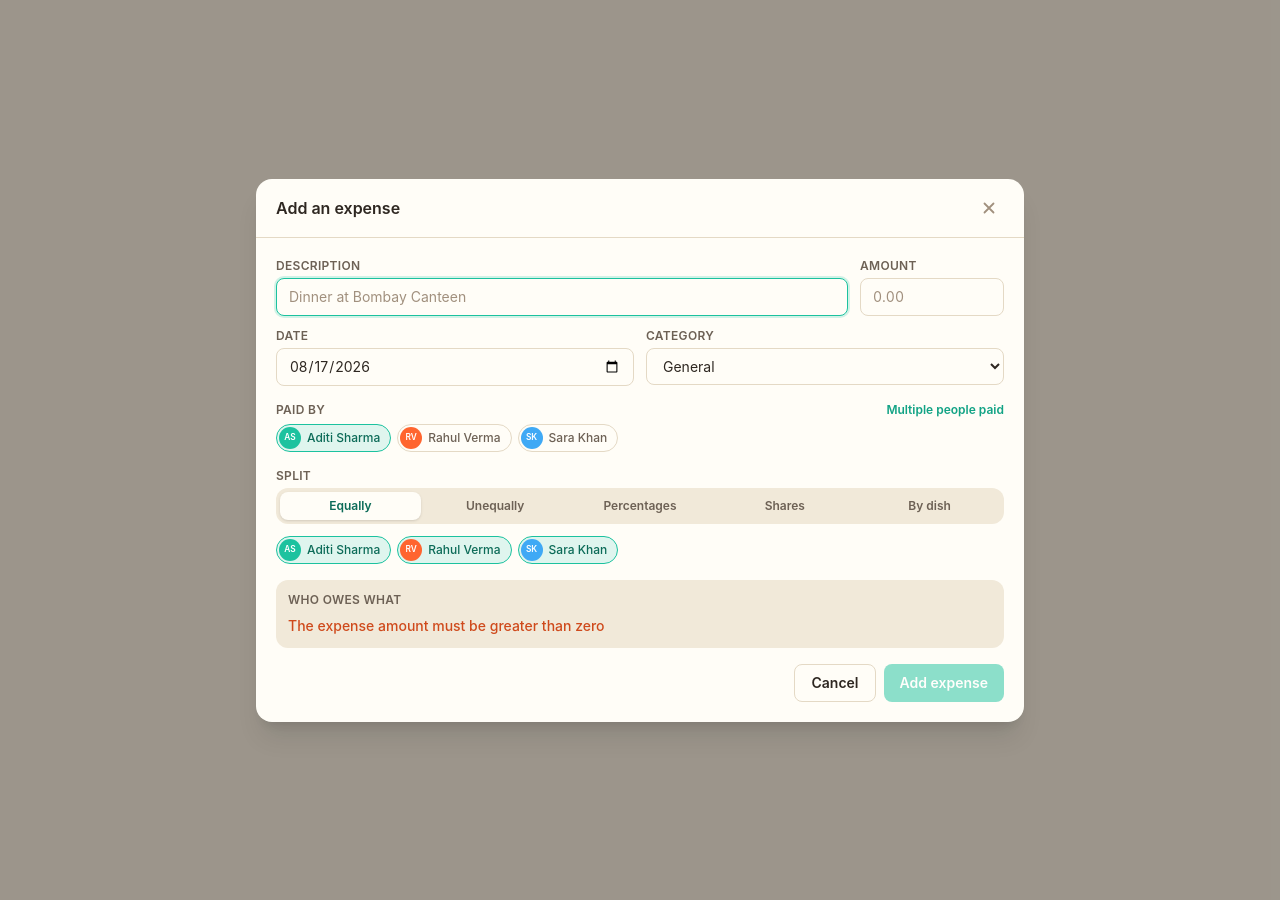
ExpenseModal › shows a specific error instead of letting a bad split through
This screenshot has width=1280, height=900.
In the field labelled "Description": [562, 296] box 276,278 -> 848,316, type "Rent"
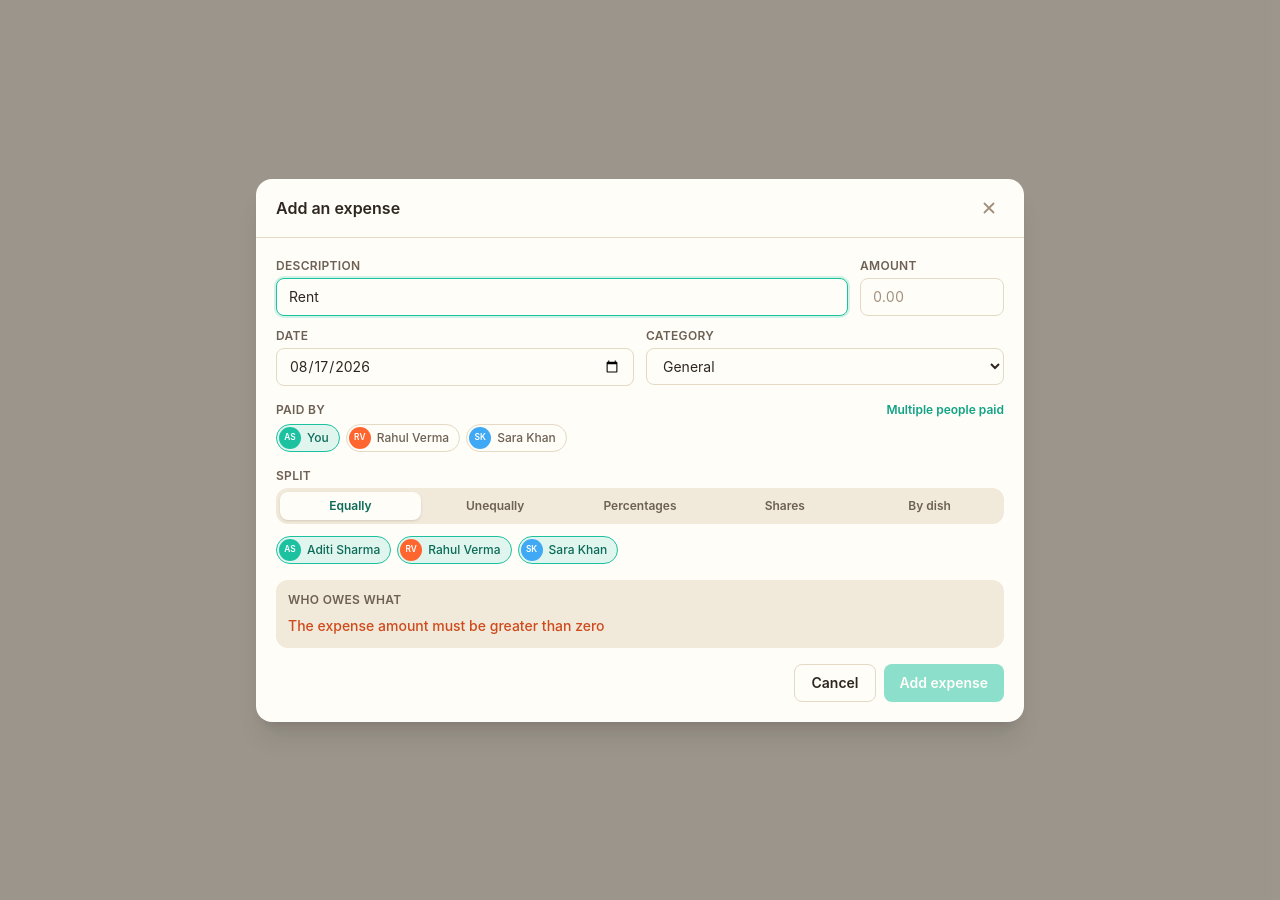
In the field labelled "Amount": [932, 296] box 860,278 -> 1004,316, type "100"
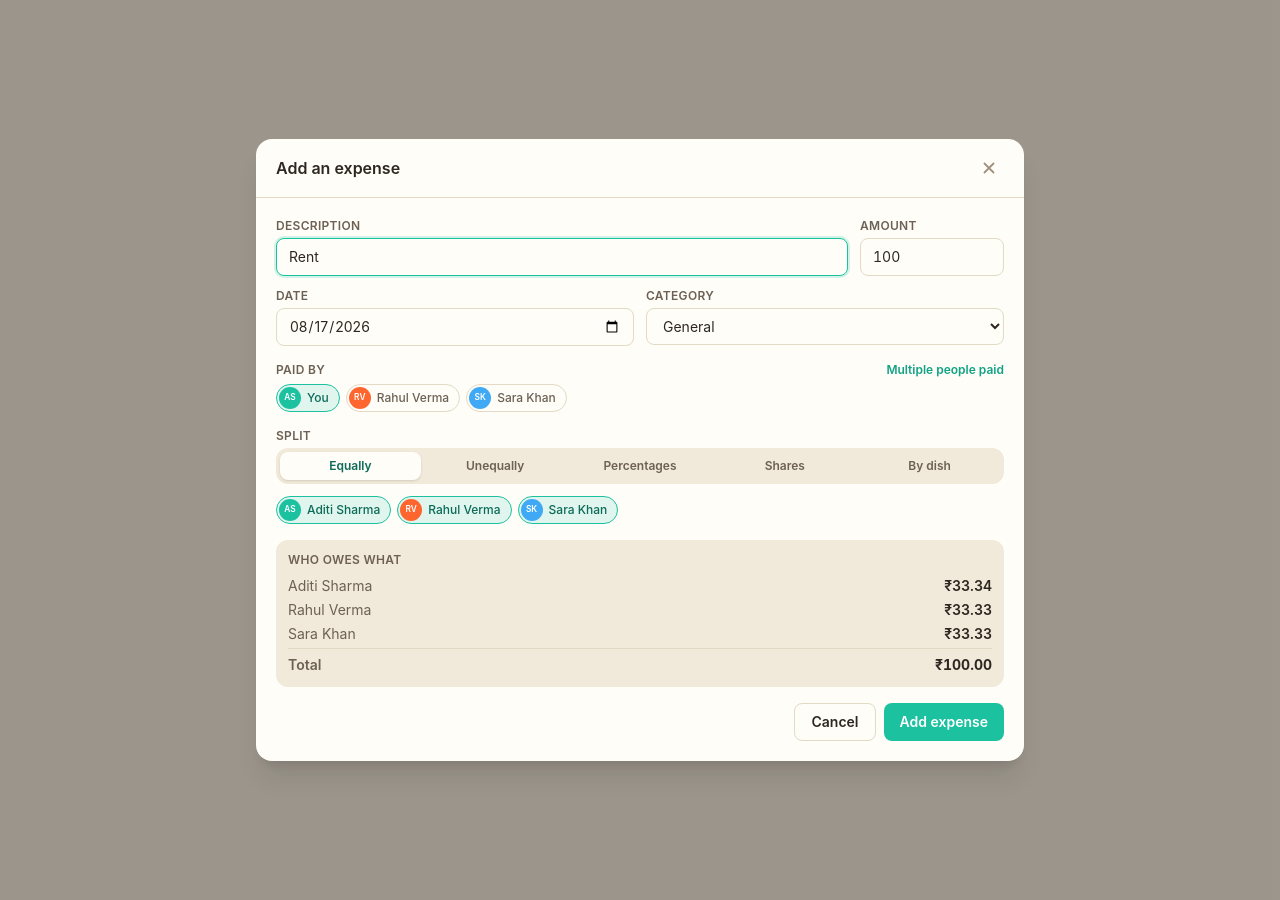
Click the button "Percentages": [640, 466] box 570,452 -> 710,480
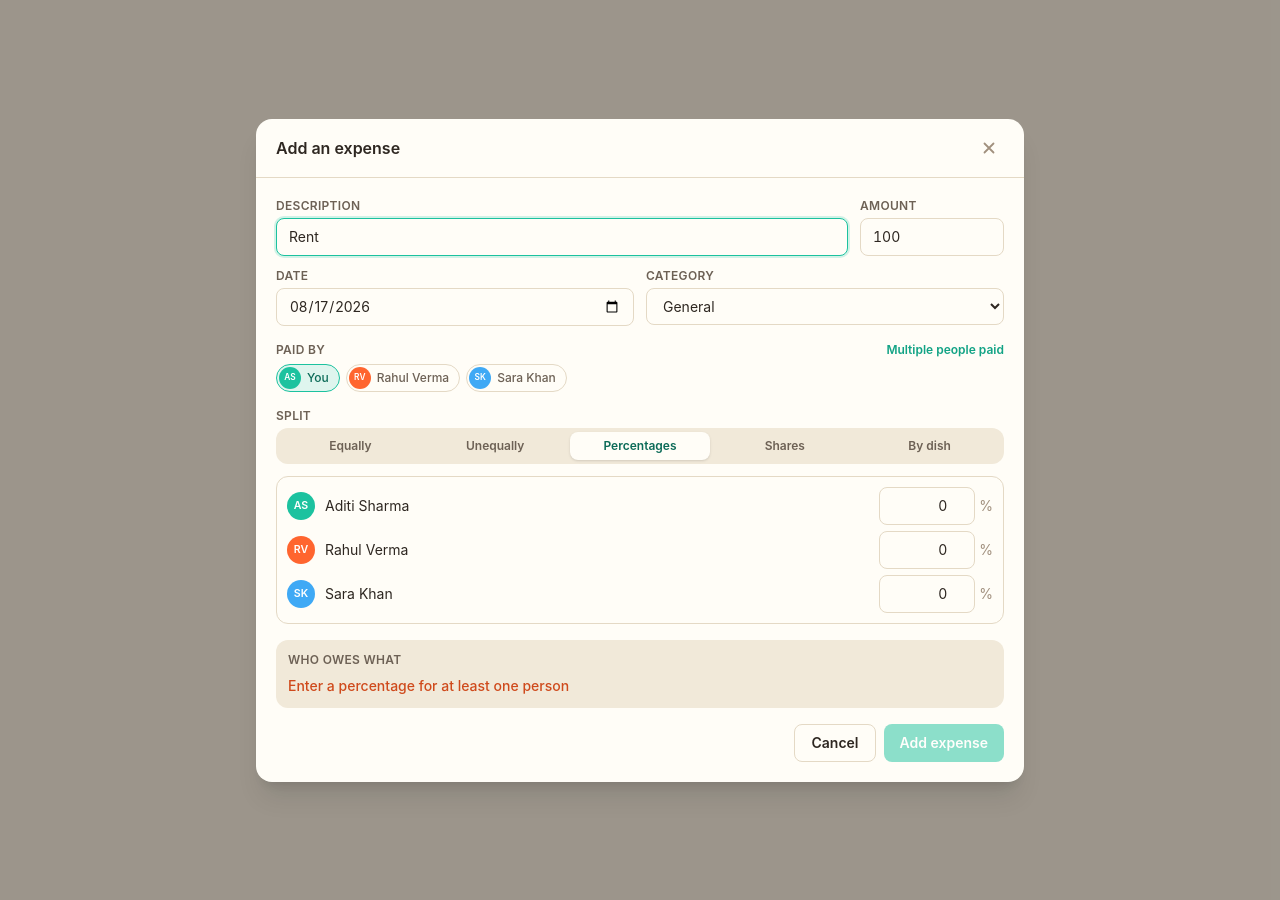
Expected: the text "Enter a percentage for at least one person" is shown, 288,676 -> 569,694
Expected: the button "Add expense" is disabled, 884,724 -> 1004,762
Now a partial split, which is arithmetically wrong — a different message.
Replace the text in the number field in the row of "Aditi Sharma" with "40": [927, 506] box 879,486 -> 975,524
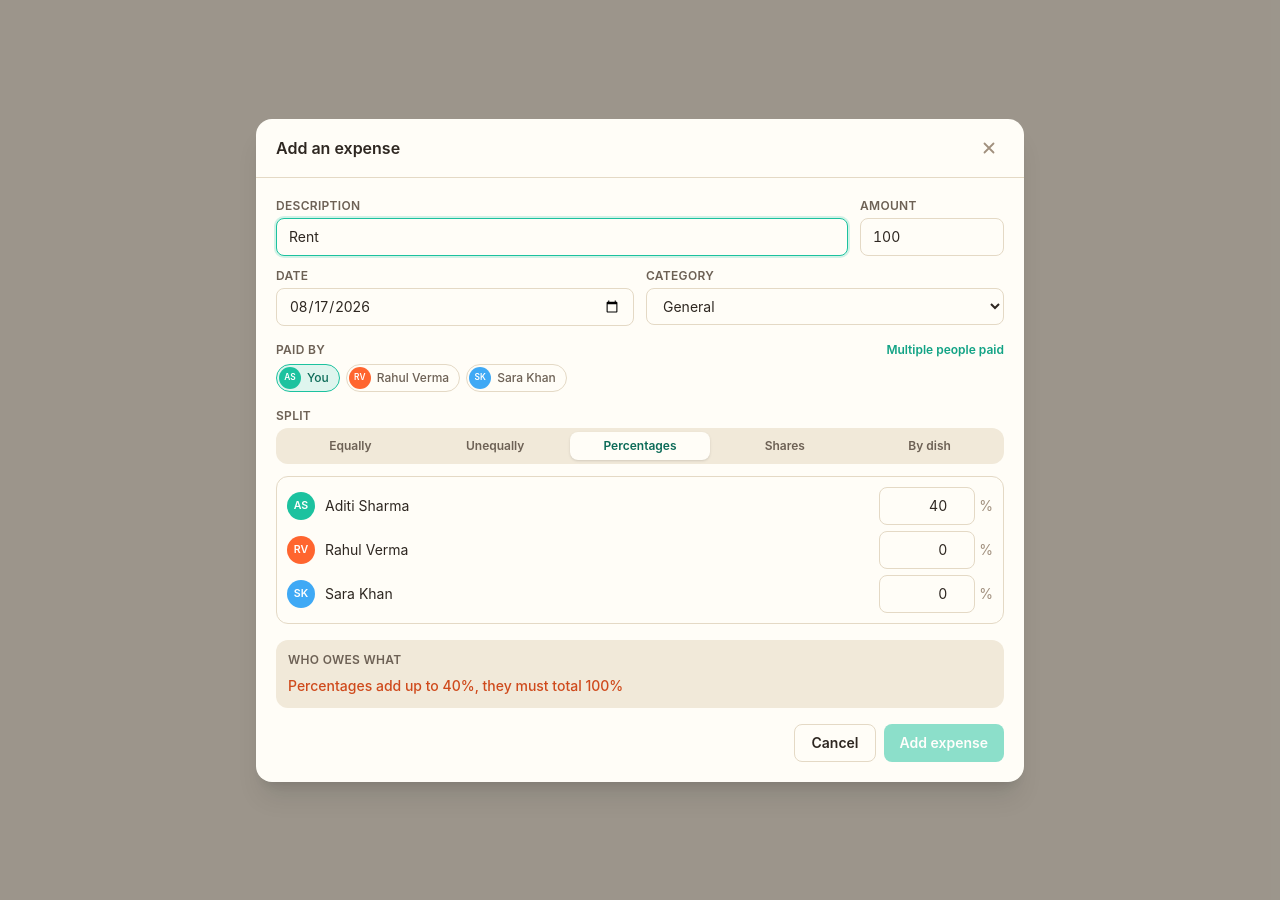
Expected: the button "Add expense" is disabled, 884,724 -> 1004,762
Expected: the text "Percentages add up to 40%, they must total 100%" is shown, 288,676 -> 623,694
Completing it to 100% clears the error and unblocks the form.
Replace the text in the 2nd number field with "60": [927, 550] box 879,530 -> 975,568
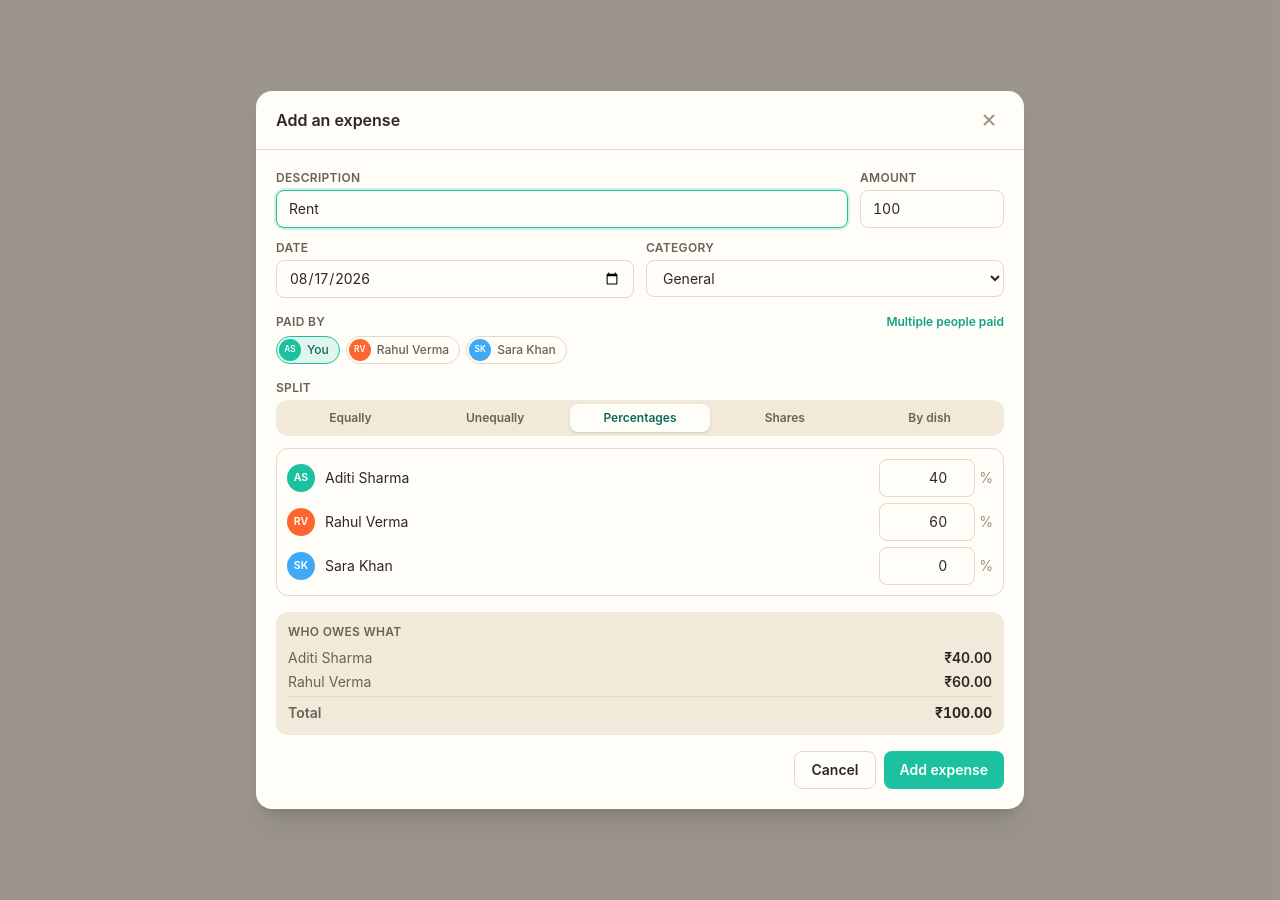
Expected: the text "must total 100%" is gone
Expected: the button "Add expense" is enabled, 884,751 -> 1004,789
